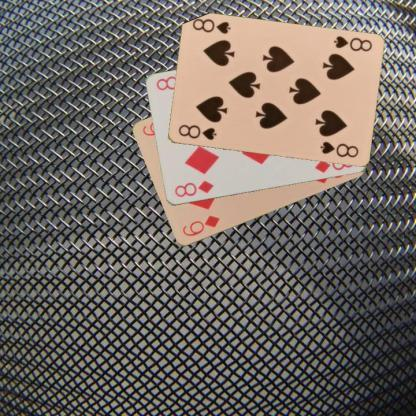6d: (179, 213, 221, 238)
8d: (172, 178, 214, 199)
8s: (176, 121, 218, 142), (331, 34, 373, 54)
